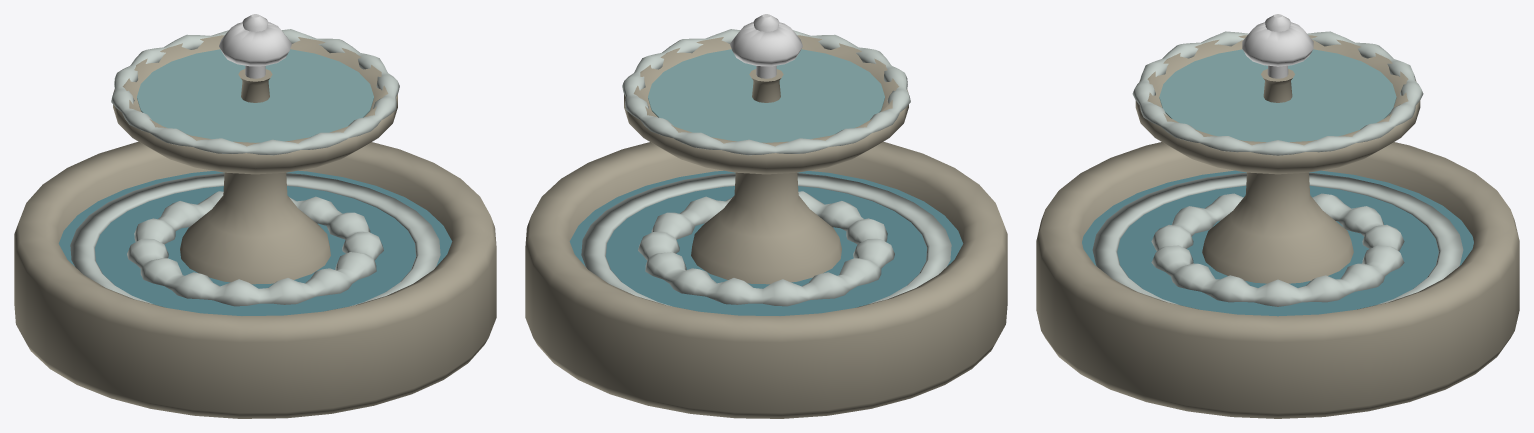
The model's file is DEC_Fountain_A.fbx.
The picture shows the model from 3 angles, left to right: view 1: azimuth 30°, elevation 25°; view 2: azimuth 150°, elevation 25°; view 3: azimuth 270°, elevation 25°; orthographic projection.
Parts seen in each view (by area): view 1: DEC_Fountain_A_Body_LOD0, DEC_Fountain_A_FountainPlume_LOD0, DEC_Fountain_A_FountainJet_LOD0; view 2: DEC_Fountain_A_Body_LOD0, DEC_Fountain_A_FountainPlume_LOD0, DEC_Fountain_A_FountainJet_LOD0; view 3: DEC_Fountain_A_Body_LOD0, DEC_Fountain_A_FountainPlume_LOD0, DEC_Fountain_A_FountainJet_LOD0.
Part boxes in pixels (x1=…): DEC_Fountain_A_Body_LOD0: x1=14, y1=29, x2=496, y2=418; DEC_Fountain_A_FountainPlume_LOD0: x1=219, y1=22, x2=291, y2=66; DEC_Fountain_A_FountainJet_LOD0: x1=242, y1=14, x2=268, y2=78; DEC_Fountain_A_Body_LOD0: x1=525, y1=29, x2=1007, y2=418; DEC_Fountain_A_FountainPlume_LOD0: x1=730, y1=22, x2=802, y2=66; DEC_Fountain_A_FountainJet_LOD0: x1=753, y1=14, x2=779, y2=78; DEC_Fountain_A_Body_LOD0: x1=1036, y1=31, x2=1519, y2=418; DEC_Fountain_A_FountainPlume_LOD0: x1=1242, y1=22, x2=1313, y2=66; DEC_Fountain_A_FountainJet_LOD0: x1=1265, y1=14, x2=1290, y2=78.
Size of what is drawn, in the model's own units: 2.24 by 1.55 by 2.24.
